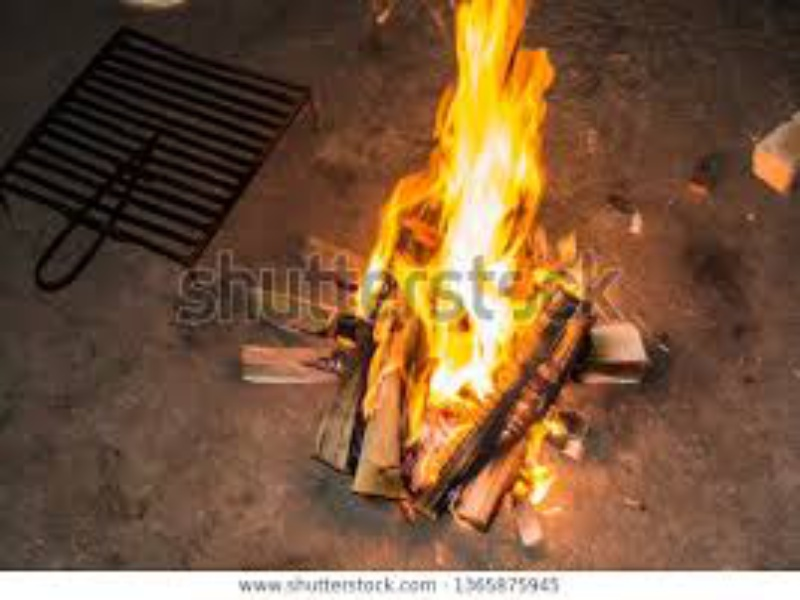fire: (365, 1, 556, 394), (529, 420, 561, 509)
